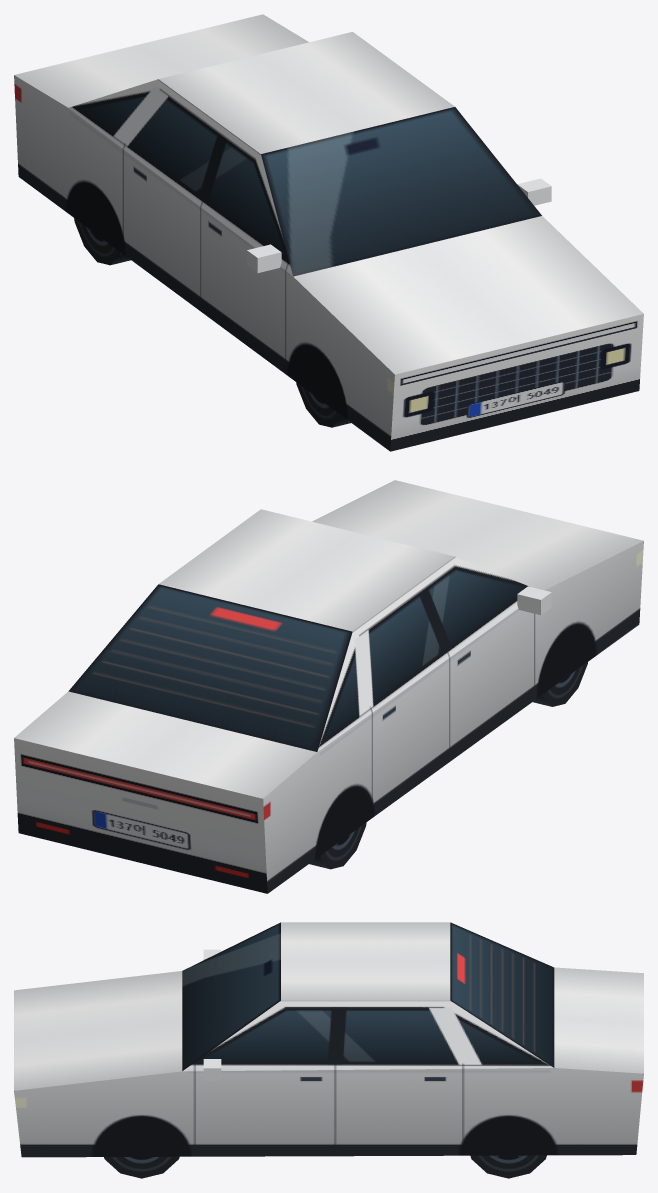
File: car_granduer.glb
The picture shows the model from 3 angles, top to bottom: view 1: azimuth 30°, elevation 25°; view 2: azimuth 150°, elevation 25°; view 3: azimuth 270°, elevation 25°; orthographic projection. The views are drawn at different scales.
Visible parts, largest first — view 1: KoreanCar_Grandeur; view 2: KoreanCar_Grandeur; view 3: KoreanCar_Grandeur.
Boxes of the visible parts, x1,y1,x2,y2 form: KoreanCar_Grandeur: [14, 14, 643, 451]; KoreanCar_Grandeur: [14, 480, 643, 893]; KoreanCar_Grandeur: [14, 922, 643, 1178].
Size of the model in its own units: 2.22 by 1.46 by 4.98.
Materials: 1 (1 with a texture image).
